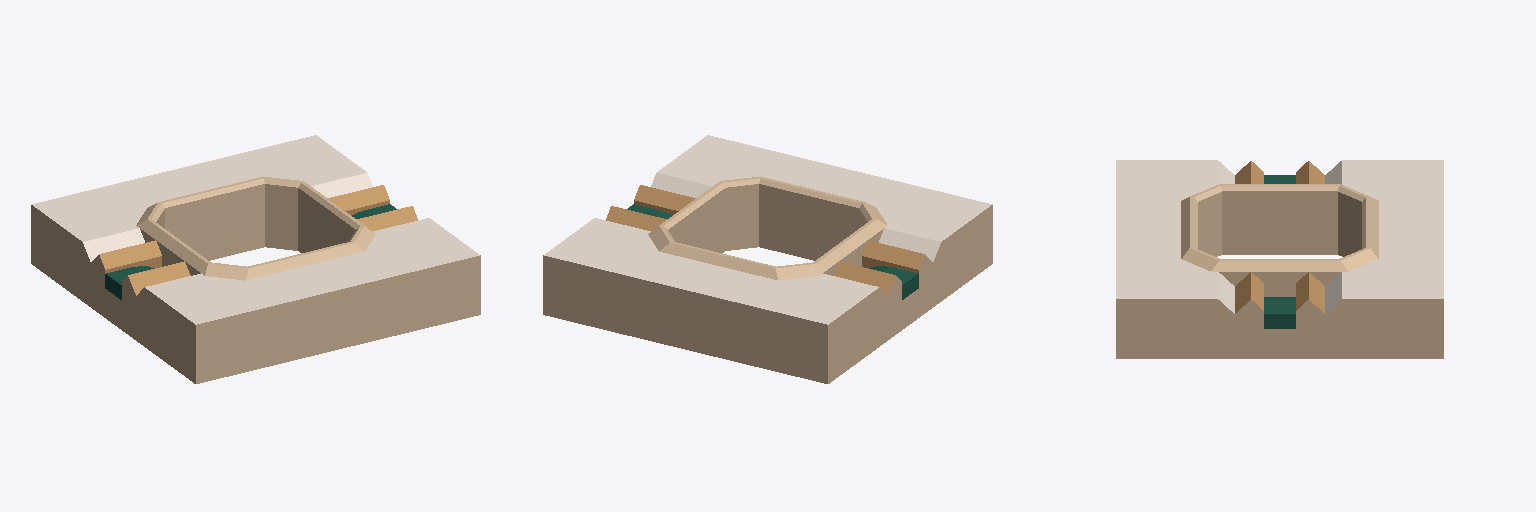
File: Puzzle_Floor_Conduit_Control_Housing_Straight.obj
3 renders of one model, left to right at view 1: azimuth 30°, elevation 25°; view 2: azimuth 150°, elevation 25°; view 3: azimuth 270°, elevation 25°, orthographic.
Visible parts, largest first — view 1: object3, object1; view 2: object3, object1; view 3: object3, object2.
Part boxes in pixels (x1,y1,x2,y2): object3: (31, 135, 480, 383); object1: (105, 266, 154, 299); object3: (543, 135, 992, 383); object1: (869, 266, 918, 299); object3: (1116, 160, 1443, 358); object2: (1264, 297, 1295, 328).
Bounding box in the file's own units: 1 × 0.225 × 1.